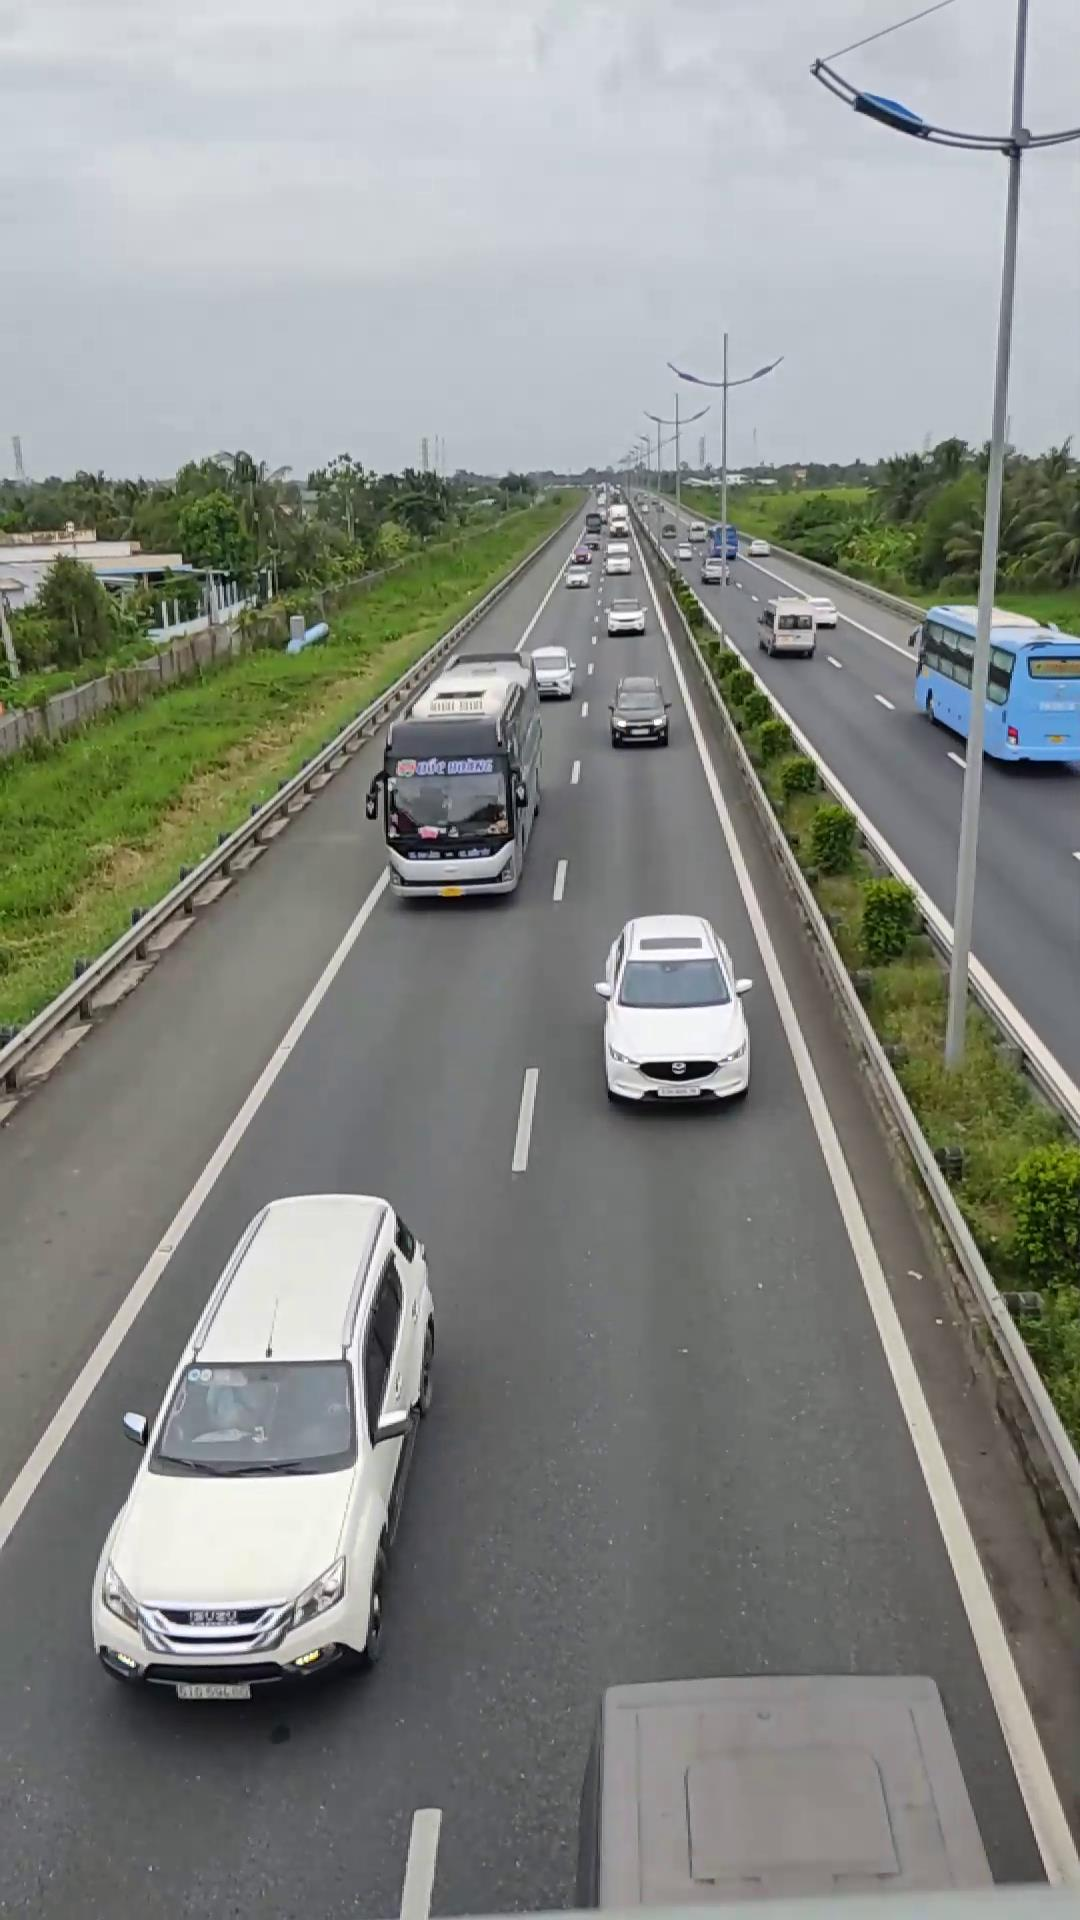bus: (370, 646, 539, 905)
car: (88, 1190, 438, 1702), (594, 911, 754, 1108), (606, 677, 671, 746)
